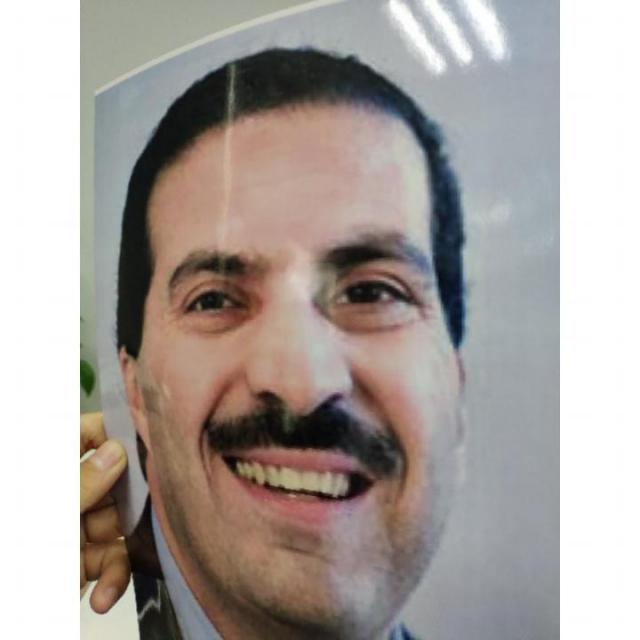photo: (90, 5, 559, 639)
